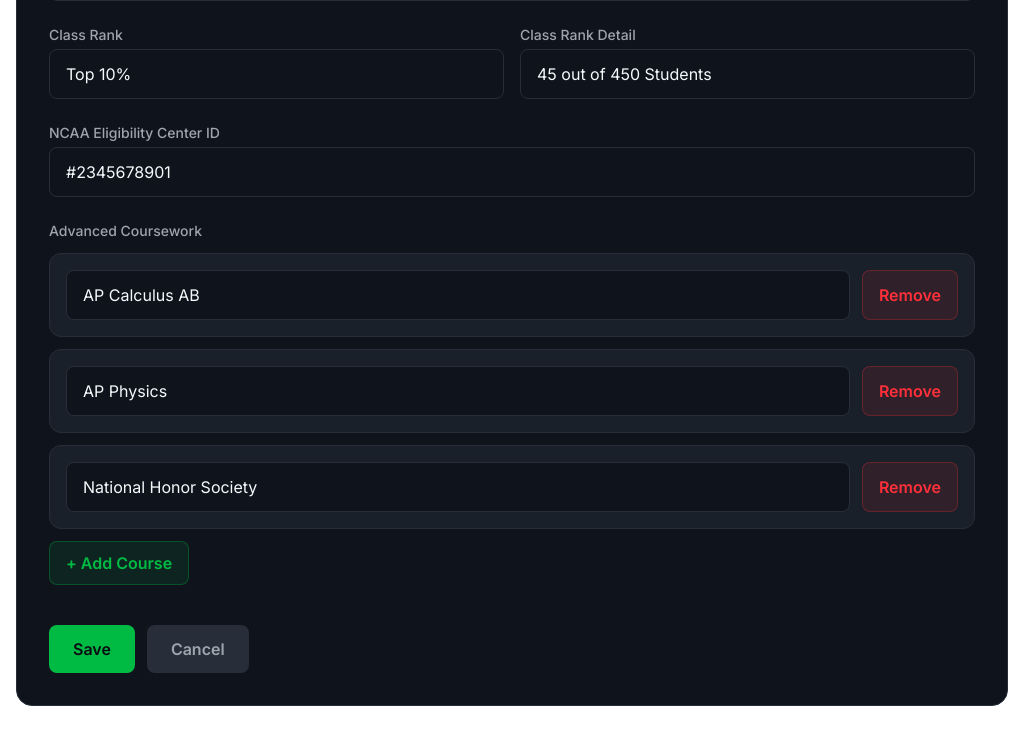
AcademicProfileSection - Inline Editing › Exiting edit mode - Save (Requirements 1.5) › disables inputs during save
The image size is (1024, 738).
(page scrolled)
What coordinates should you click on to do the following:
click the button "Save"
I would click on:
 (92, 649)
Its box is 49,625 -> 135,673.
(page scrolled)
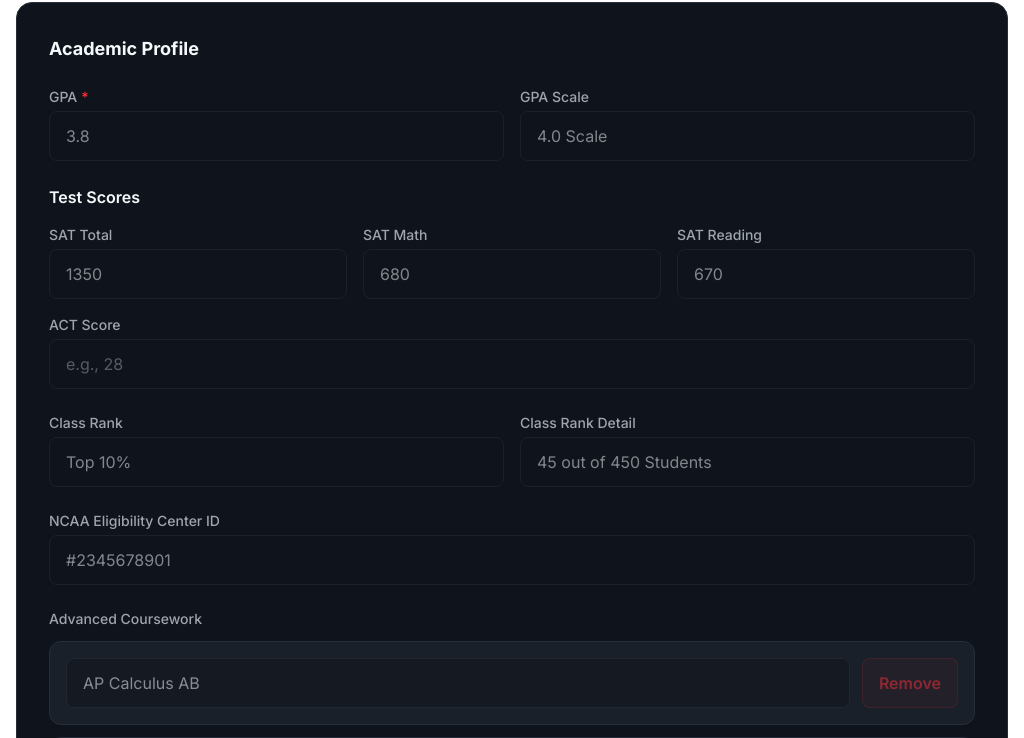
Expected: the number field labelled "GPA*" is disabled, 49,111 -> 504,161
